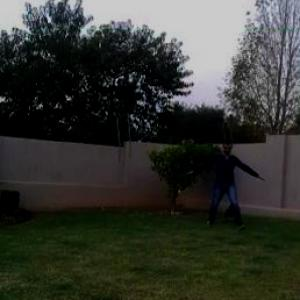land: (176, 134, 262, 235)
